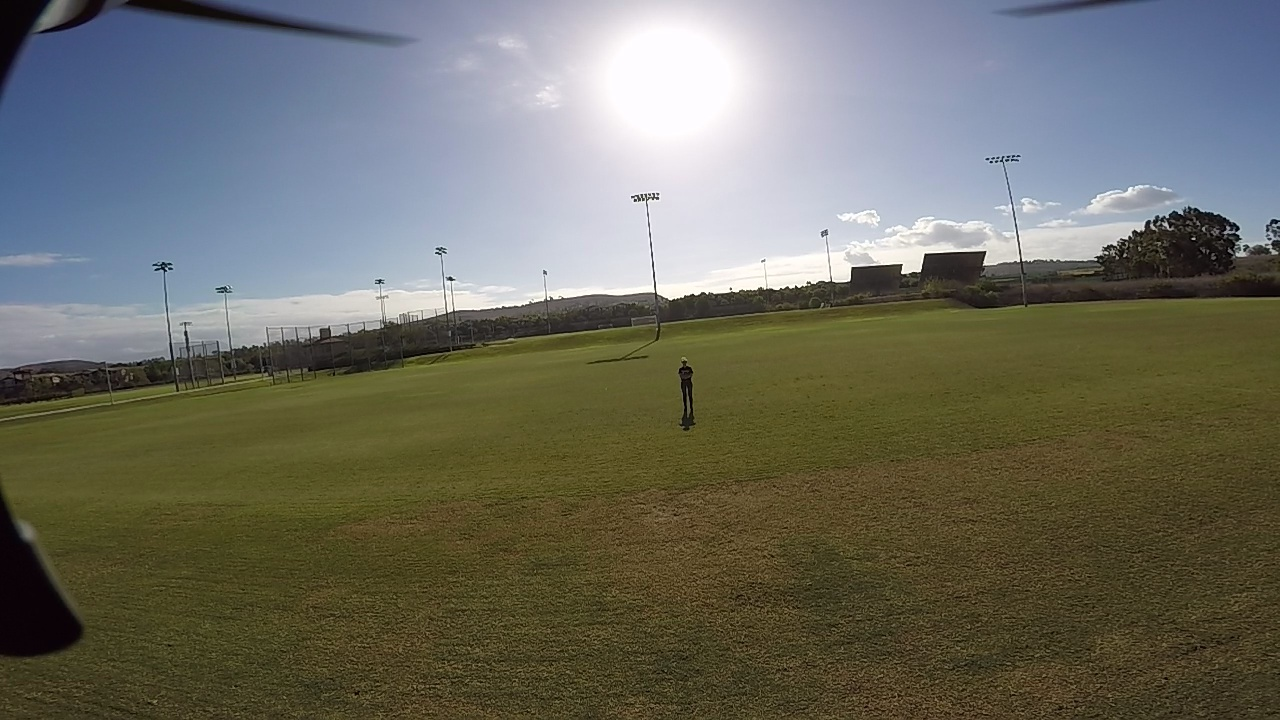person: (671, 354, 692, 423)
